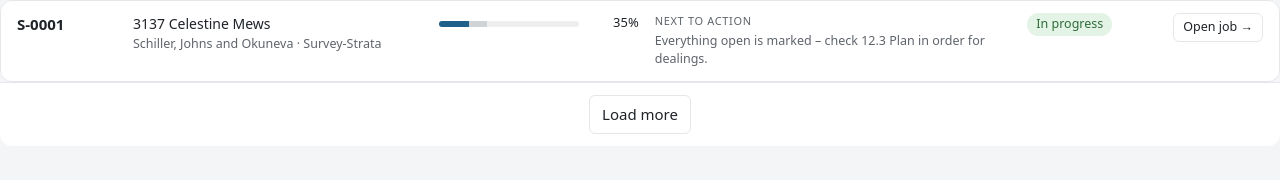
JobGrid › loads the next page with the cursor and appends it, then stops offering more
Click the button "Load more" at (640, 114), box [589, 95, 691, 134]
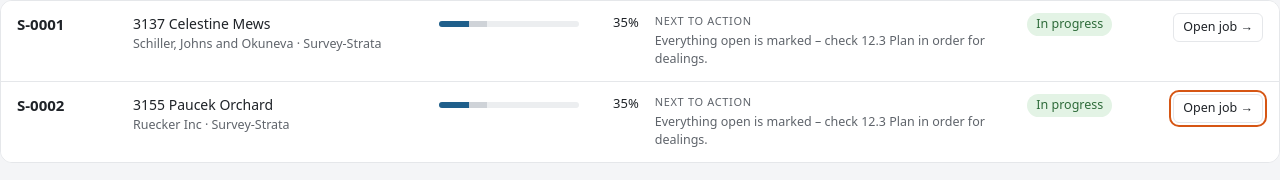
expect the link named "Open job S-0001" is shown: met, box [1173, 13, 1263, 42]
expect the link named "Open job S-0002" is shown: met, box [1173, 94, 1263, 123]
expect the button "Load more" is gone: met
